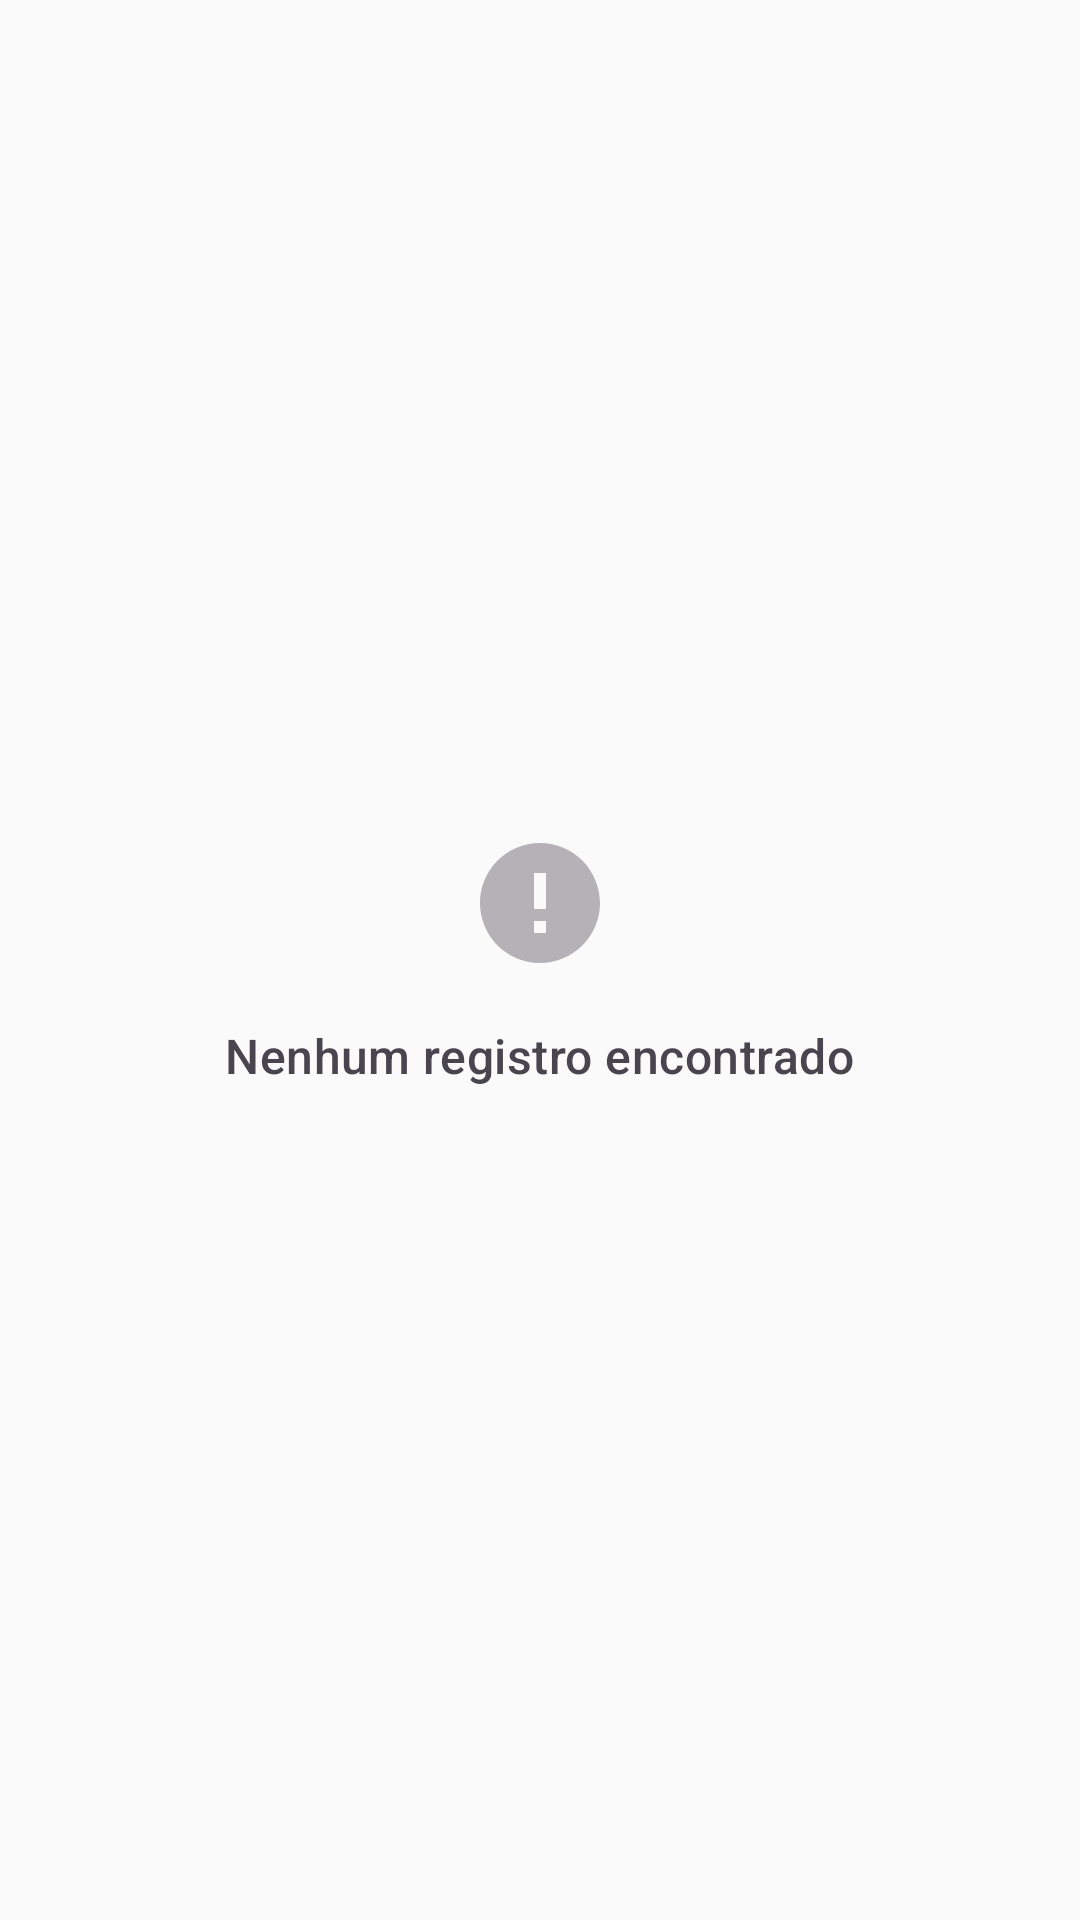

Icon click points for this 1080px x 1920px phone screenshot, format [x,y]:
alert: [540,903]
